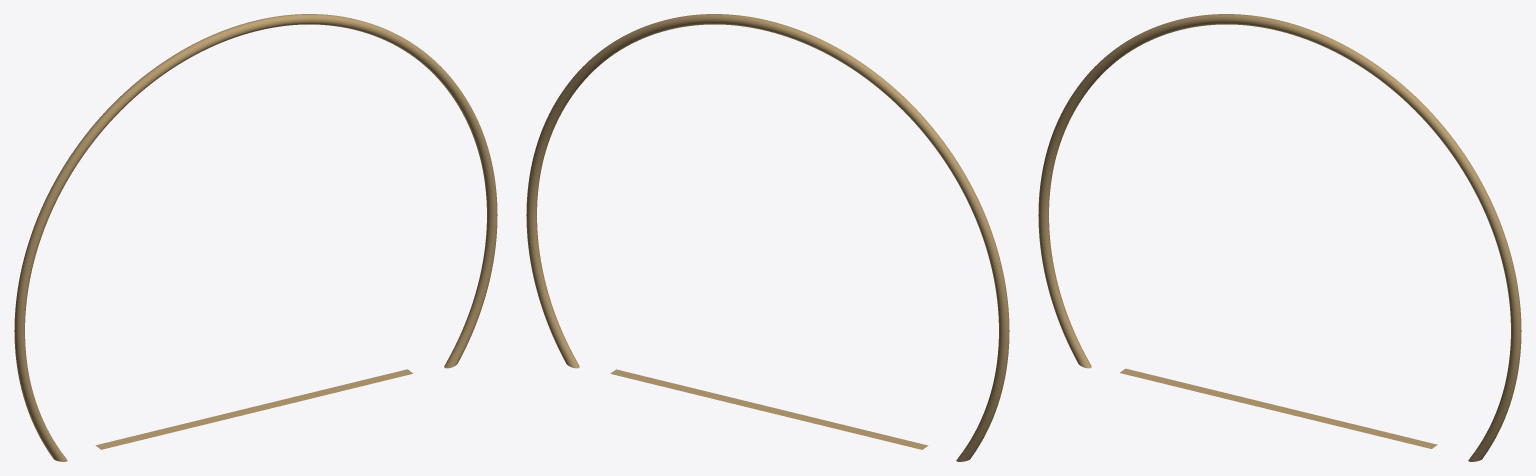
File: checkpoint.glb
3 views of the same model, side by side, from view 1: azimuth 30°, elevation 25°; view 2: azimuth 150°, elevation 25°; view 3: azimuth 330°, elevation 25° (orthographic).
Parts seen in each view (by area): view 1: checkpoint, riga_checkpoint; view 2: checkpoint, riga_checkpoint; view 3: checkpoint, riga_checkpoint.
Part boxes in pixels (x1,y1,x2,y2): checkpoint: (14, 14, 497, 461); riga_checkpoint: (95, 369, 412, 449); checkpoint: (526, 14, 1009, 461); riga_checkpoint: (610, 369, 928, 449); checkpoint: (1038, 14, 1521, 461); riga_checkpoint: (1120, 368, 1437, 448).
Size of the model in its own units: 0.5093 by 0.3969 by 0.0112.
